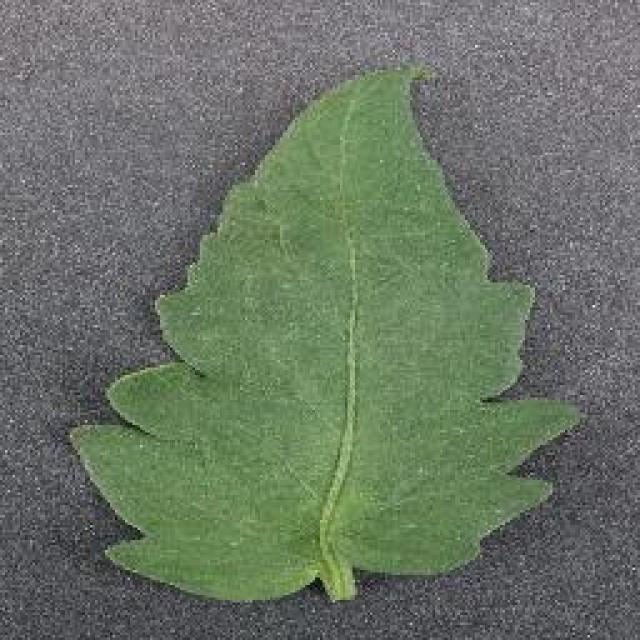Tomato healthy leaf: (69, 59, 571, 601)
